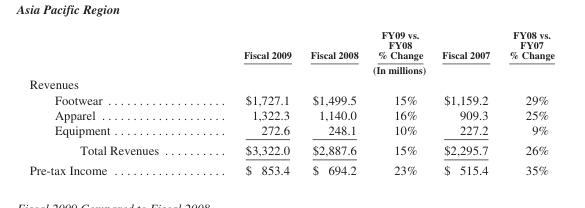table: (28, 28, 553, 177)
table column: (28, 28, 200, 177), (200, 28, 300, 177), (300, 28, 367, 177), (431, 28, 498, 177), (367, 28, 431, 177), (498, 28, 553, 177)
table column header: (28, 28, 553, 76)
table projected row header: (28, 76, 553, 91)
table row: (28, 28, 553, 62), (28, 139, 553, 159), (28, 159, 553, 177), (28, 122, 553, 139), (28, 106, 553, 122), (28, 76, 553, 91), (28, 91, 553, 106), (28, 62, 553, 76)
table spanning cell: (200, 62, 553, 76)
